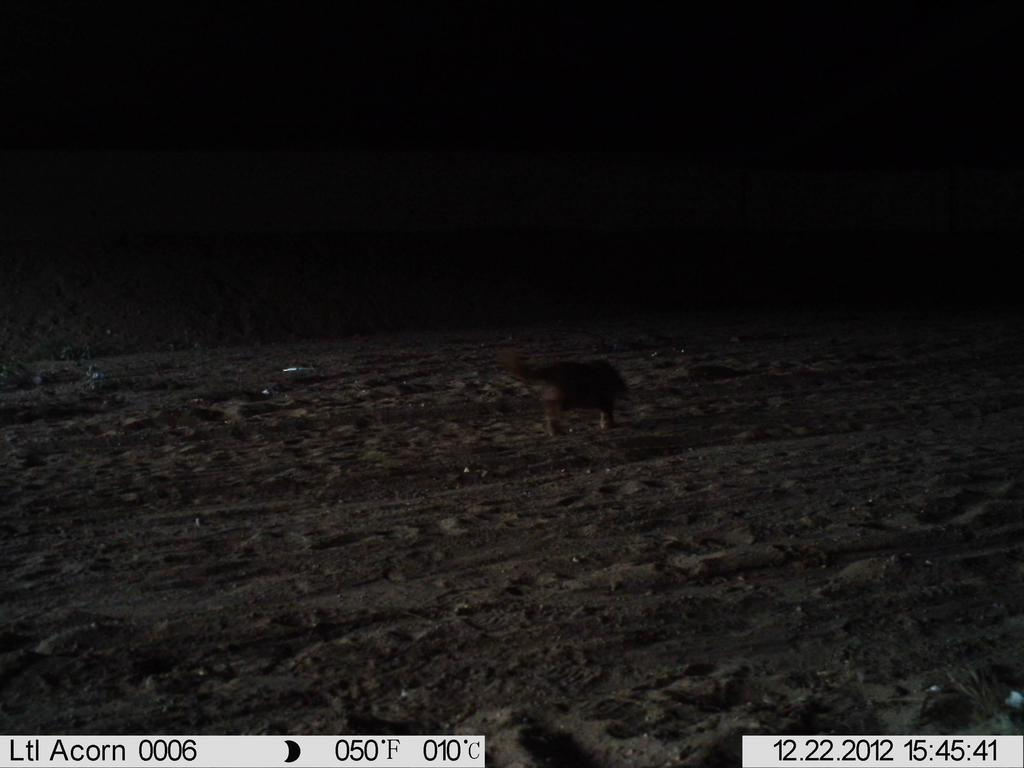dog: (482, 332, 648, 446)
